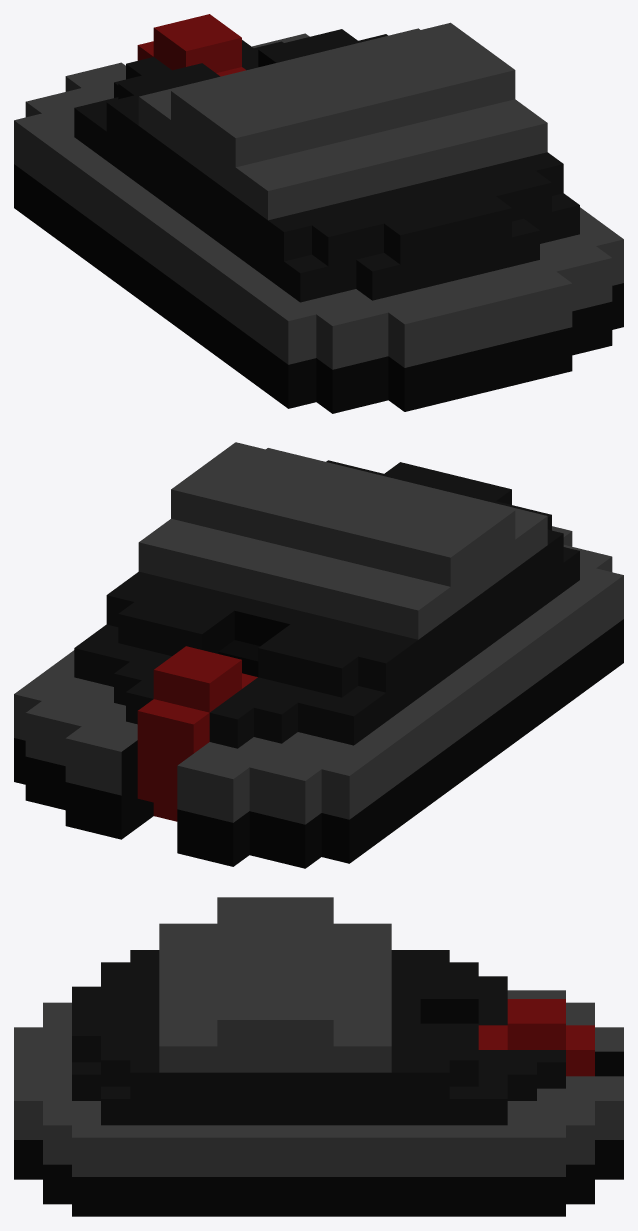
File: Mouse.FBX
3 views of the same model, one above another, from view 1: azimuth 30°, elevation 25°; view 2: azimuth 150°, elevation 25°; view 3: azimuth 270°, elevation 25° (orthographic). The views are drawn at different scales.
Visible parts, largest first — view 1: Monitor; view 2: Monitor; view 3: Monitor.
Part boxes in pixels (<box>): Monitor: <box>14,14,623,413</box>; Monitor: <box>14,442,623,868</box>; Monitor: <box>14,897,623,1216</box>.
Bounding box in the file's own units: 249 × 145 × 436.
